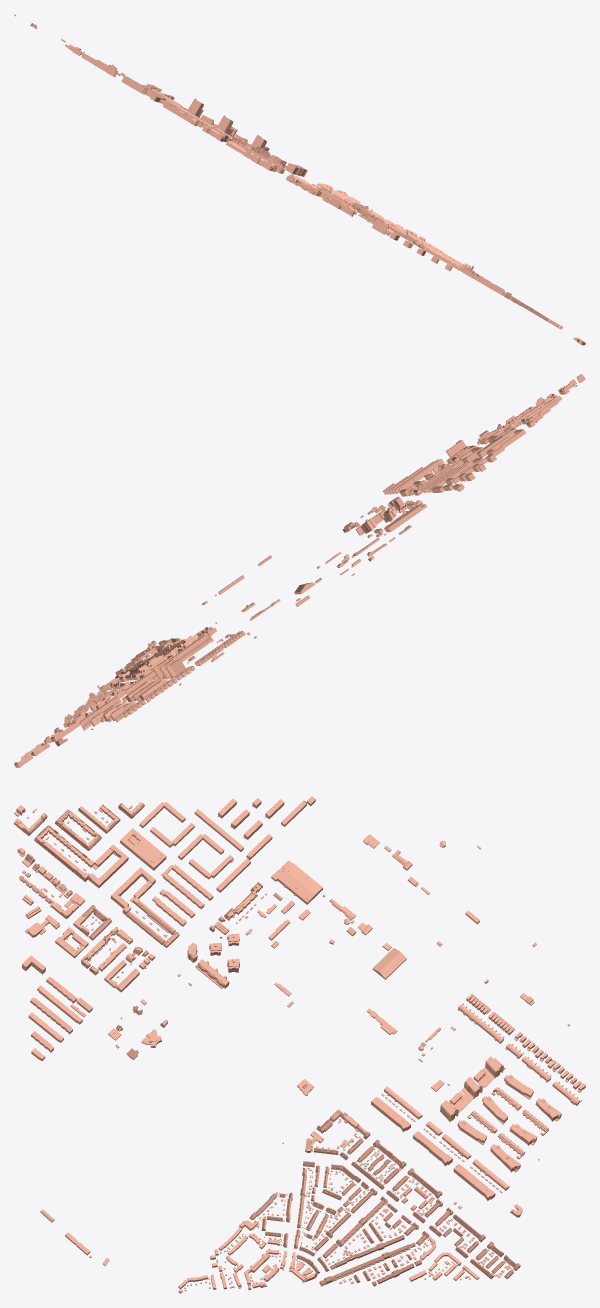
The picture shows the model from 3 angles, top to bottom: view 1: azimuth 30°, elevation 25°; view 2: azimuth 150°, elevation 25°; view 3: azimuth 270°, elevation 25°; orthographic projection. The views are drawn at different scales.
Bounding box in the file's own units: 3.23e+07 × 2.45e+07 × 4.09e+07.
